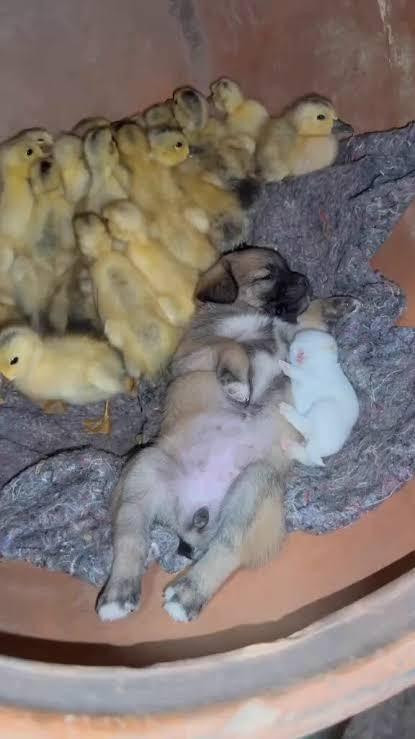non-dog: (88, 205, 198, 387), (1, 325, 131, 443), (147, 125, 248, 268), (2, 130, 64, 332), (279, 324, 359, 470), (256, 94, 354, 185), (98, 112, 166, 234), (207, 76, 270, 177), (69, 205, 116, 332), (148, 84, 214, 166), (40, 132, 92, 217), (71, 116, 113, 209)
puppy-dog: (87, 239, 313, 630)
